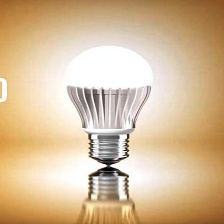light_bulb: (61, 42, 155, 168)
